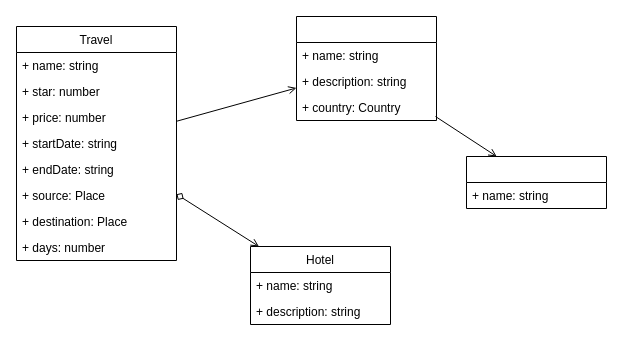
Image size: 623x341. Some labels were removed from this diagram. Here are the shapes that lost their labels. From the top down, the box of each, then its label:
(296, 16, 436, 120): Place
(466, 156, 606, 208): Country
